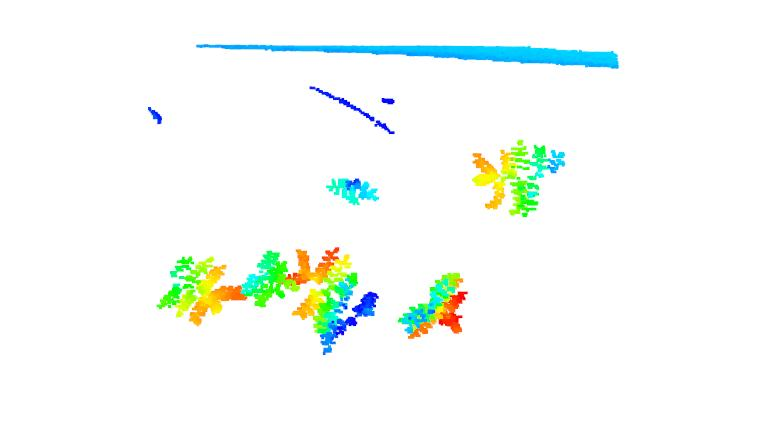chickpea: (287, 245, 380, 355), (470, 137, 567, 218), (152, 253, 245, 326), (396, 271, 469, 342), (243, 251, 299, 307), (326, 174, 383, 207)
